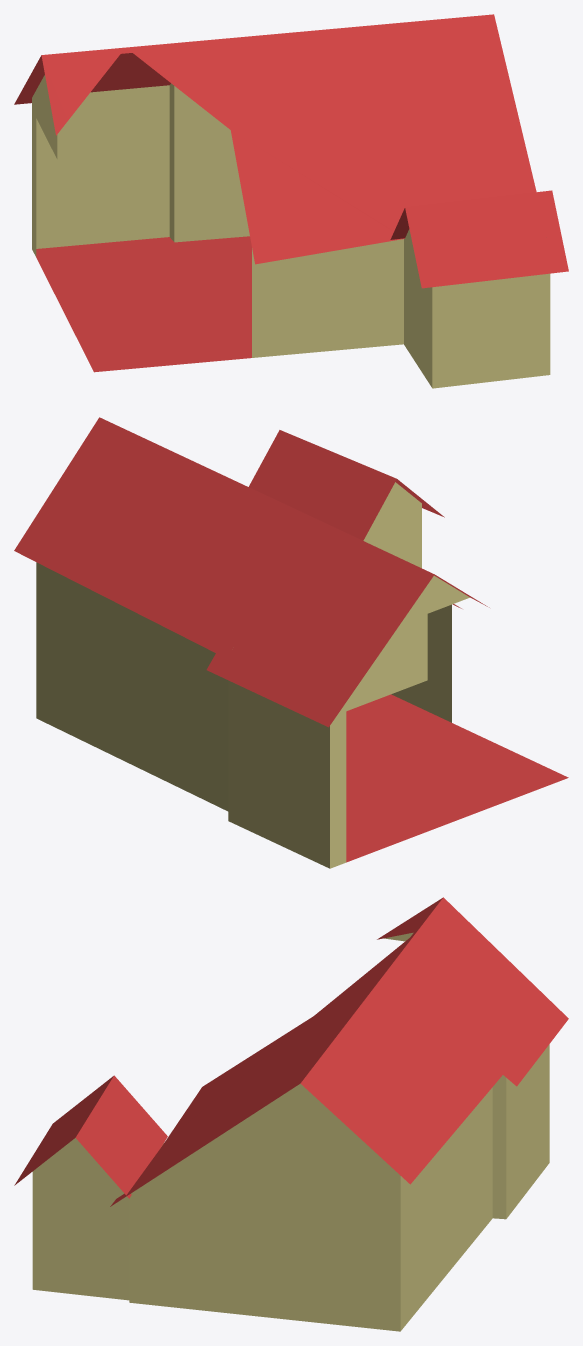
3 renders of one model, top to bottom at view 1: azimuth 30°, elevation 25°; view 2: azimuth 150°, elevation 25°; view 3: azimuth 270°, elevation 25°, orthographic. The views are drawn at different scales.
Bounding box in the file's own units: 25.02 × 27.23 × 13.21.
